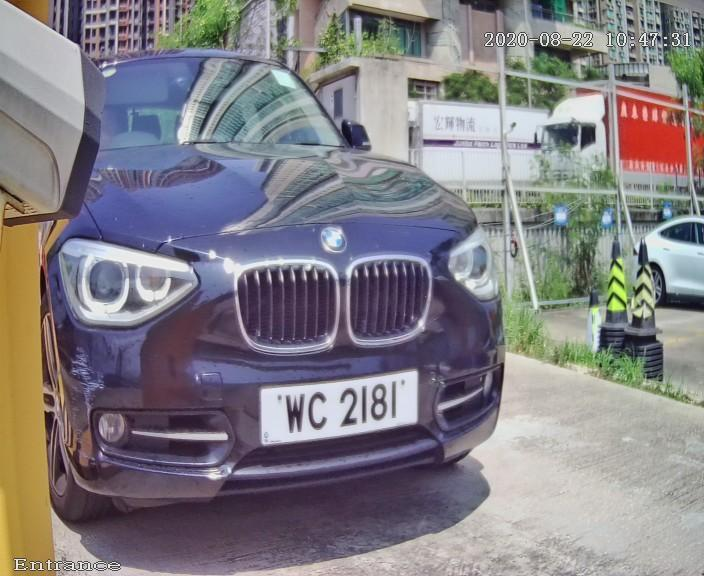License Plate: (258, 366, 425, 448)
